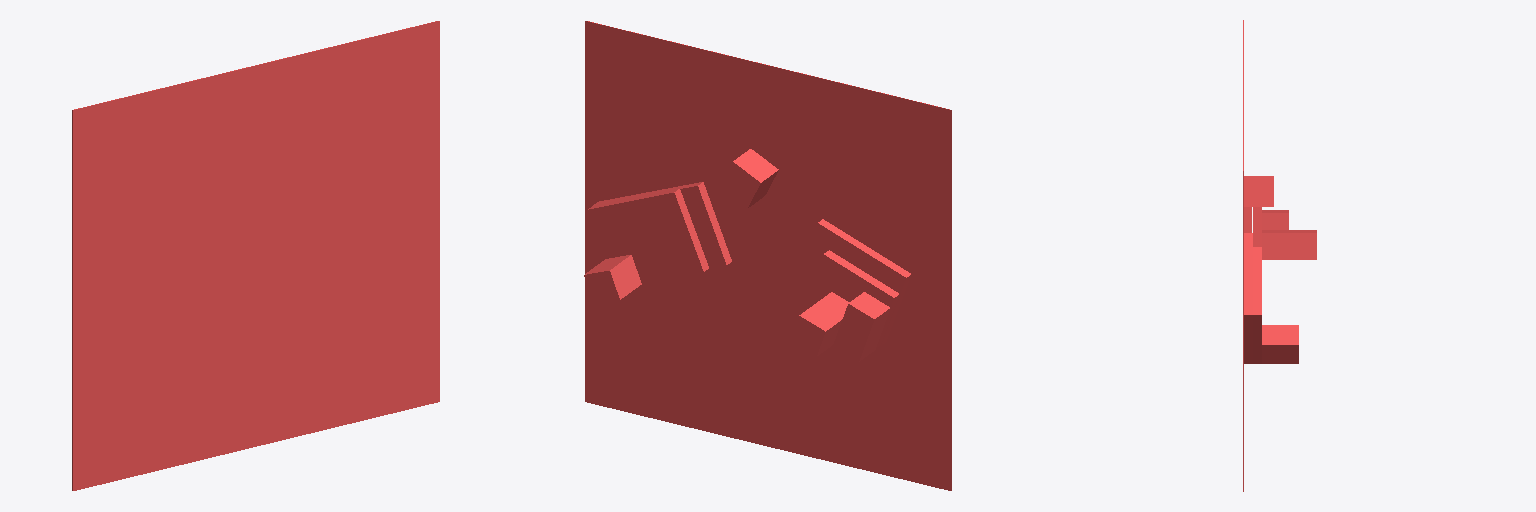
robot.urdf — cube.urdf:
<?xml version="1.0" ?>
<robot name="cube.urdf">
  <link concave="yes" name="baseLink">
    <contact>
      <lateral_friction value="0.5"/>
      <rolling_friction value="0.0"/>
      <contact_cfm value="0.0"/>
      <contact_erp value="1.0"/>
    </contact>
    <inertial>
      <origin rpy="0 0 0" xyz="0.07 0.05 0.03"/>
       <mass value="0"/>
       <inertia ixx="1" ixy="0" ixz="0" iyy="1" iyz="0" izz="1"/>
    </inertial>
    <visual>
      <origin rpy="0 0 0" xyz="0 0 0"/>
      <geometry>
        <mesh filename="0034.obj" scale=".1 .1 .1"/>
      </geometry>
       <material name="red">
        <color rgba="1 0.4 0.4 1"/>
      </material>
    </visual>
    <collision concave="yes">
      <origin rpy="0 0 0" xyz="0 0 0"/>
      <geometry>
	 	<mesh filename="0034.obj" scale=".1 .1 .1"/>
      </geometry>
    </collision>
  </link>
</robot>

--- Render facts (derived) ---
The picture shows the robot from 3 angles, left to right: view 1: azimuth 30°, elevation 25°; view 2: azimuth 150°, elevation 25°; view 3: azimuth 270°, elevation 25°; orthographic projection.
Robot: cube.urdf — 1 links, 0 joints (none); root link baseLink; default pose: all joints at 0.
Visible links, largest first — view 1: baseLink; view 2: baseLink; view 3: baseLink.
Link boxes in pixels (x1=…): baseLink: x1=72, y1=21, x2=439, y2=490; baseLink: x1=584, y1=21, x2=951, y2=490; baseLink: x1=1243, y1=20, x2=1316, y2=491.
Size in the robot's own frame: 0.5922 by 0.1233 by 0.5883 metres.
Meshes: 1 distinct files referenced, 1 mesh visuals loaded (1 OBJ).